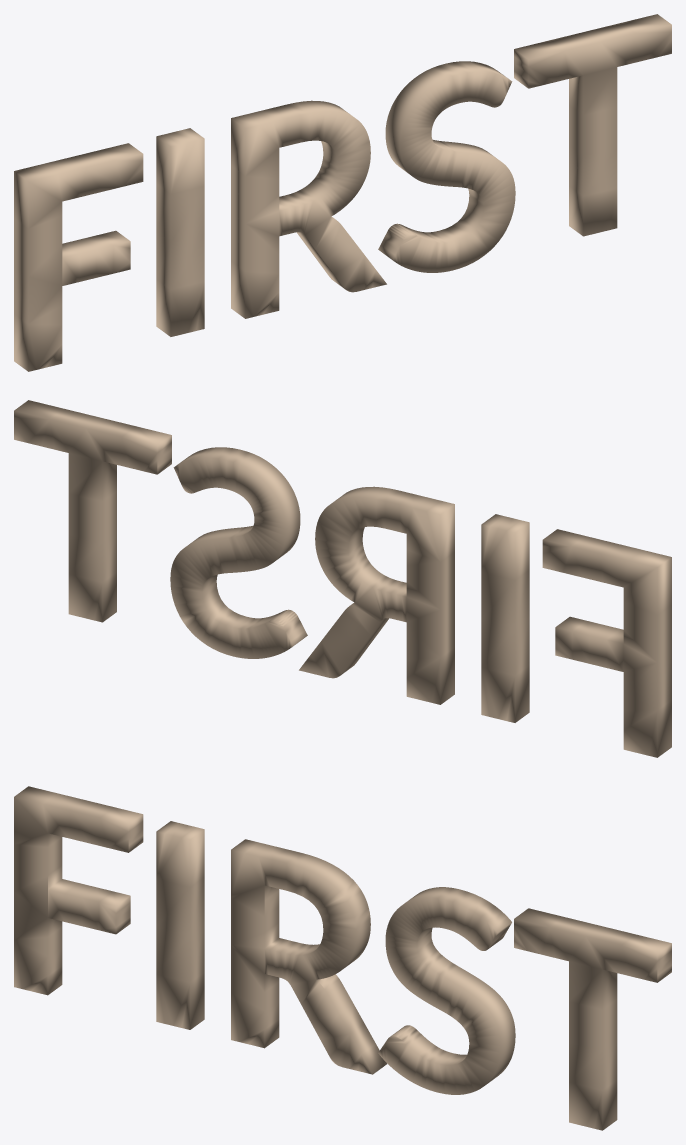
File: first.dae
3 renders of one model, top to bottom at view 1: azimuth 30°, elevation 25°; view 2: azimuth 150°, elevation 25°; view 3: azimuth 330°, elevation 25°, orthographic.
Visible parts, largest first — view 1: text4-0; view 2: text4-0; view 3: text4-0.
Boxes of the visible parts, x1=… form: text4-0: x1=14, y1=14, x2=671, y2=371; text4-0: x1=14, y1=400, x2=671, y2=757; text4-0: x1=14, y1=786, x2=671, y2=1130.
Bounding box in the file's own units: 5.12 × 1.48 × 0.2.
